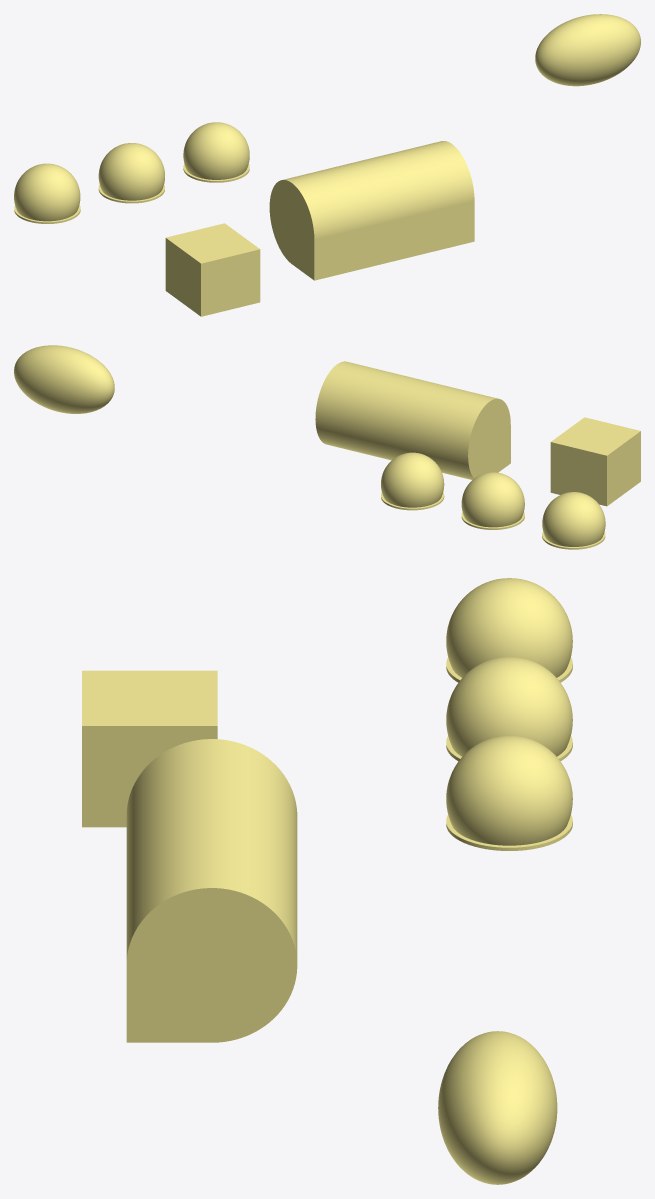
File: volumetric_gallery_type_b.gltf
3 renders of one model, top to bottom at view 1: azimuth 30°, elevation 25°; view 2: azimuth 150°, elevation 25°; view 3: azimuth 270°, elevation 25°, orthographic. The views are drawn at different scales.
Bounding box in the file's own units: 131 × 20.36 × 47.22.
